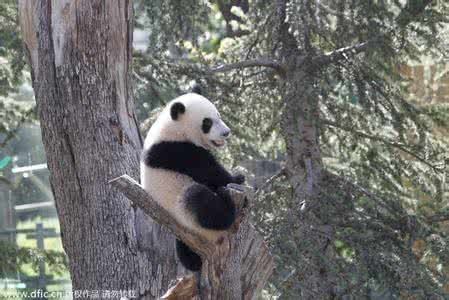panda: (138, 86, 250, 272)
